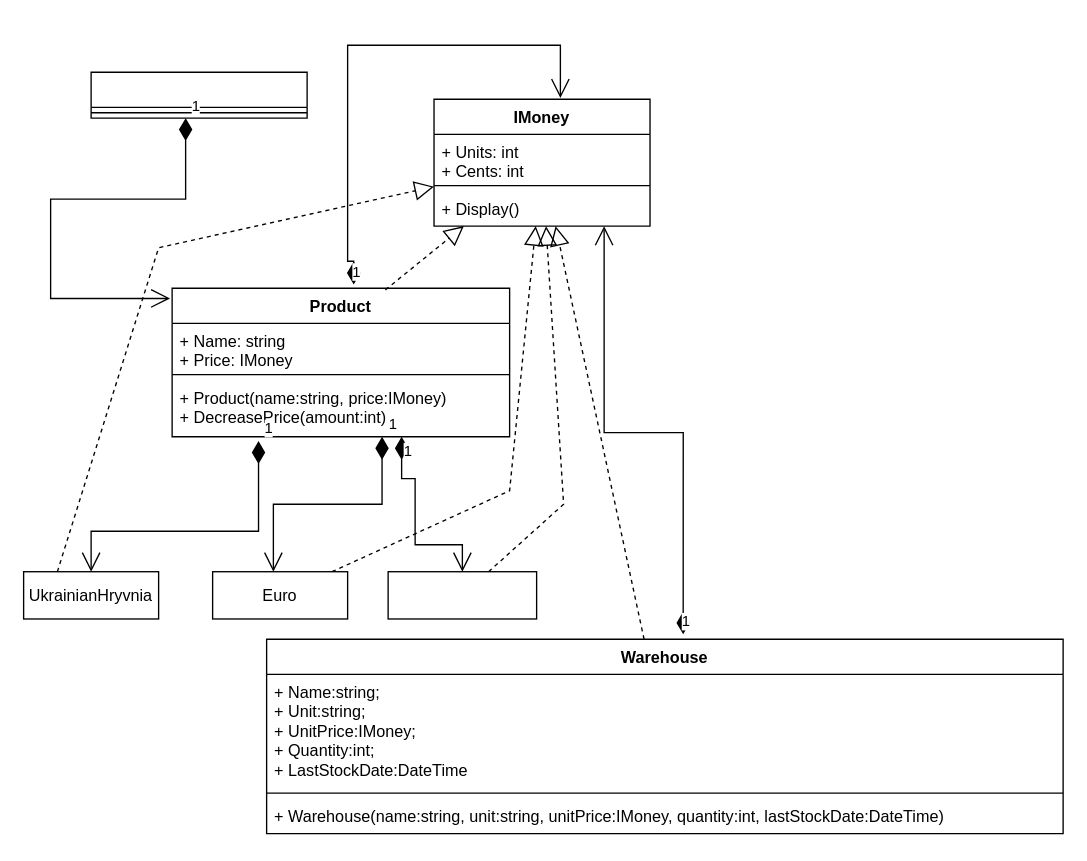
This 1087x861 diagram has some shape labels left out. Here are the shapes that lost their labels. From the top down, the centre of each, then its label:
At [198,94]: "Reporting".
At [462,594]: "Dollar".
